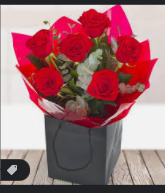RedRose: (32, 63, 64, 98), (89, 67, 120, 101), (77, 7, 112, 37), (59, 32, 93, 60), (27, 29, 55, 59), (115, 36, 146, 62)
